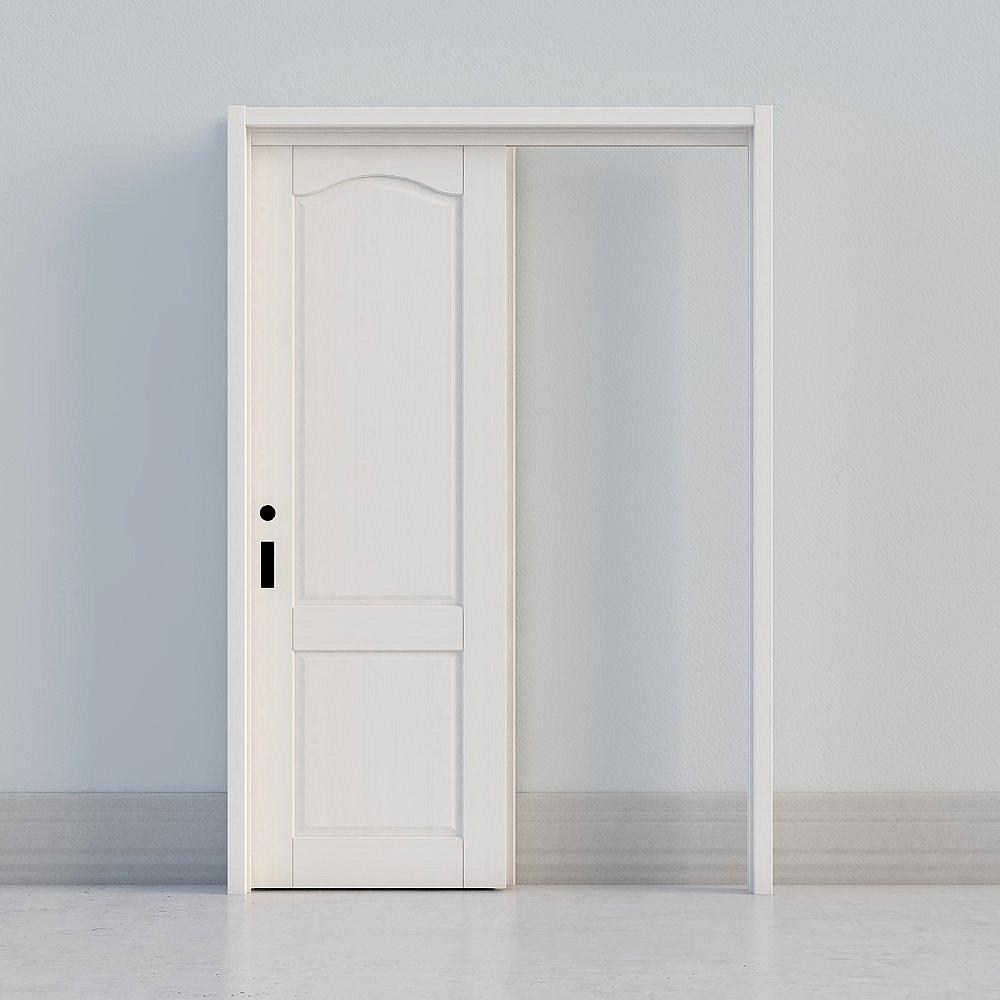door: (248, 139, 534, 892)
